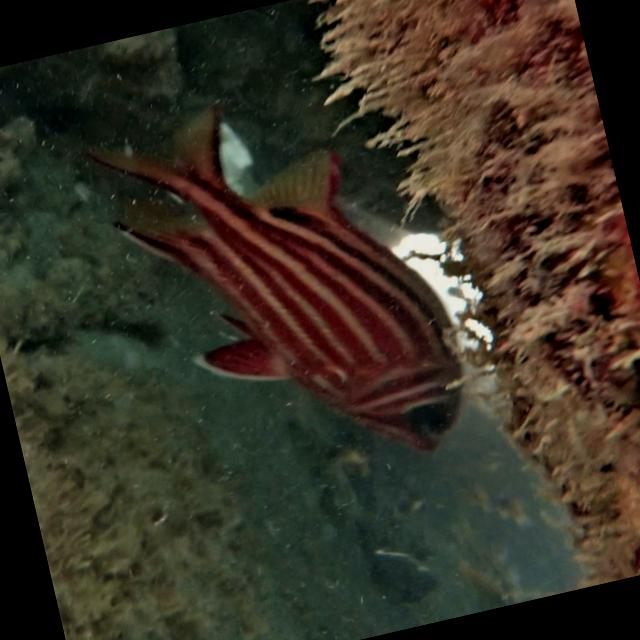Asker Baligi: (61, 55, 511, 524)
